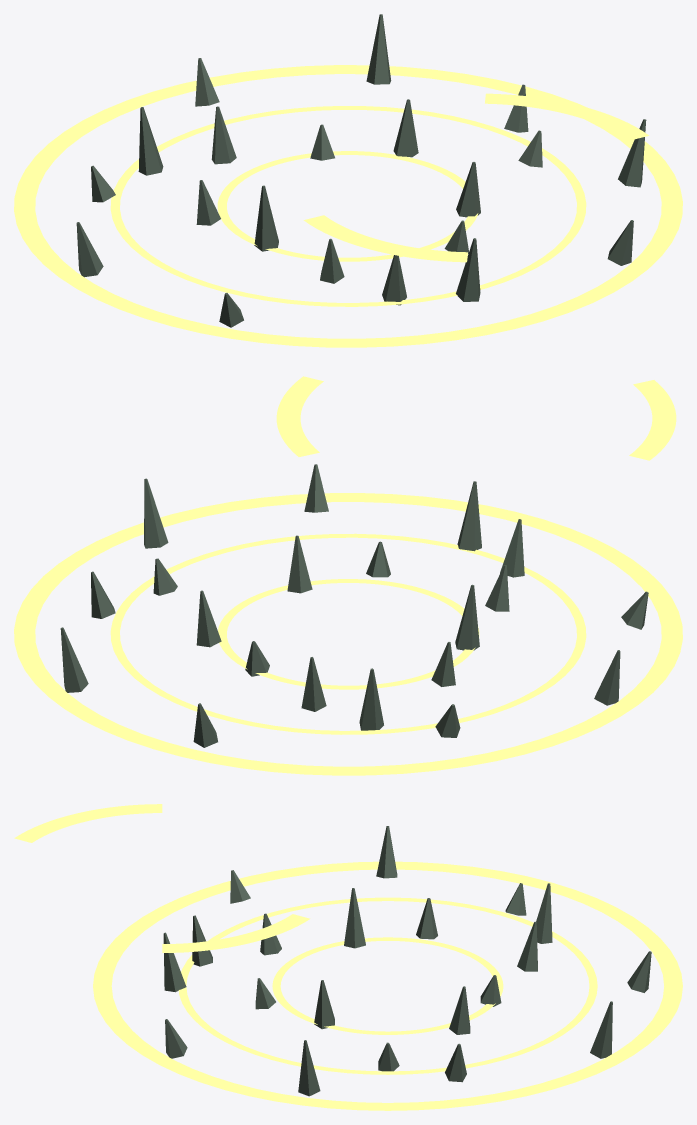
Rendered from FX_BOSS_Bite.glb.
3 views of the same model, one above another, from view 1: azimuth 30°, elevation 25°; view 2: azimuth 150°, elevation 25°; view 3: azimuth 270°, elevation 25° (orthographic). The views are drawn at different scales.
Parts seen in each view (by area): view 1: FX_BOSS_Bite_Release, FX_BOSS_Bite_Debris; view 2: FX_BOSS_Bite_Release, FX_BOSS_Bite_Debris; view 3: FX_BOSS_Bite_Release, FX_BOSS_Bite_Debris.
Part boxes in pixels (x1=…): FX_BOSS_Bite_Release: x1=14, y1=65, x2=682, y2=347; FX_BOSS_Bite_Debris: x1=76, y1=14, x2=646, y2=327; FX_BOSS_Bite_Release: x1=14, y1=376, x2=682, y2=775; FX_BOSS_Bite_Debris: x1=60, y1=464, x2=648, y2=747; FX_BOSS_Bite_Release: x1=14, y1=804, x2=682, y2=1110; FX_BOSS_Bite_Debris: x1=163, y1=826, x2=651, y2=1096.
Size of what is drawn, in the model's own units: 0.00753 by 0.00159 by 0.00853.
